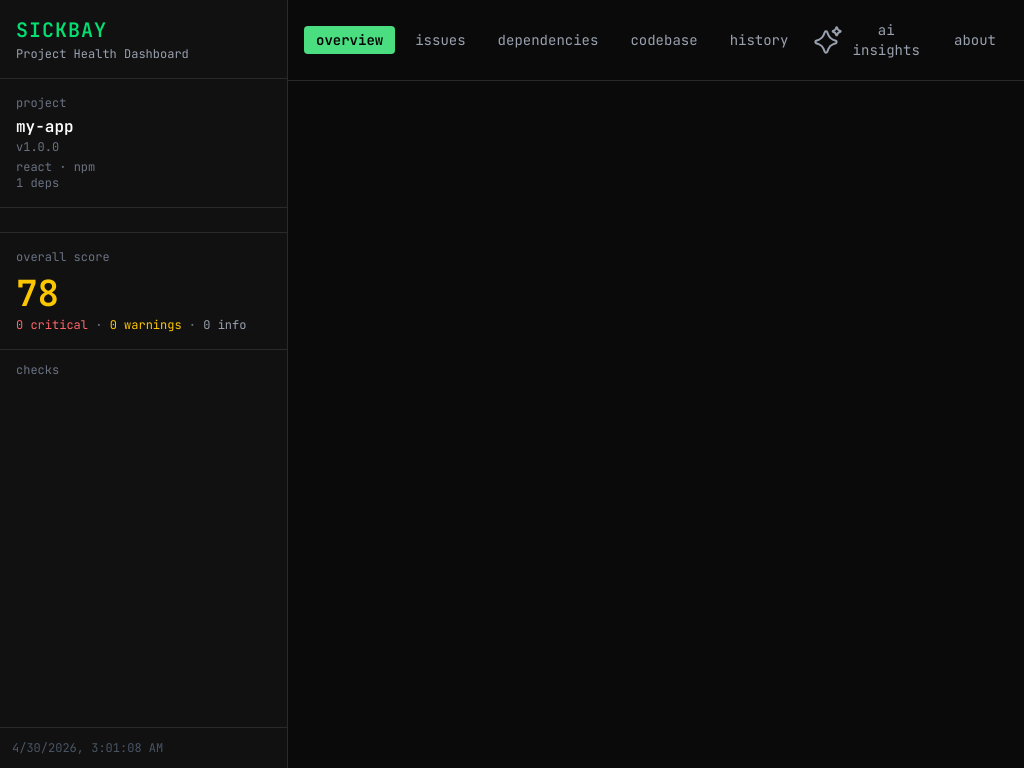
Test: Dashboard › navigates to the dependencies view when "dependencies" is clicked
Click the button "dependencies" at (548, 40), box [486, 26, 610, 54]
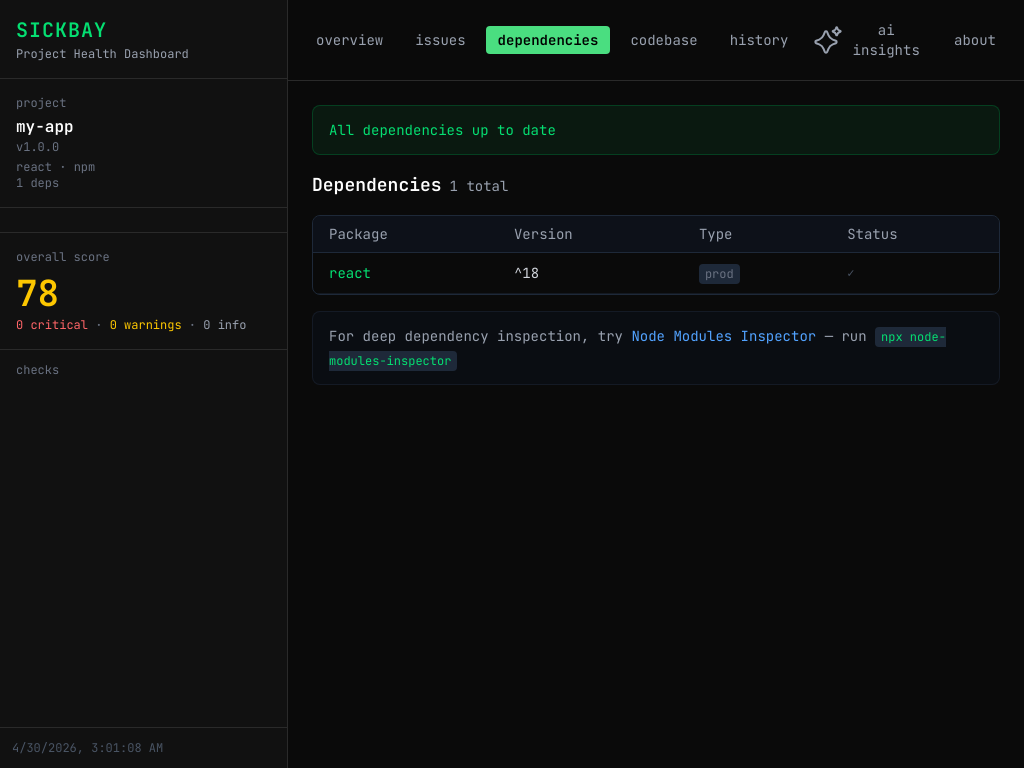
Check: the heading "Dependencies1 total" is shown, box [312, 171, 508, 199]
